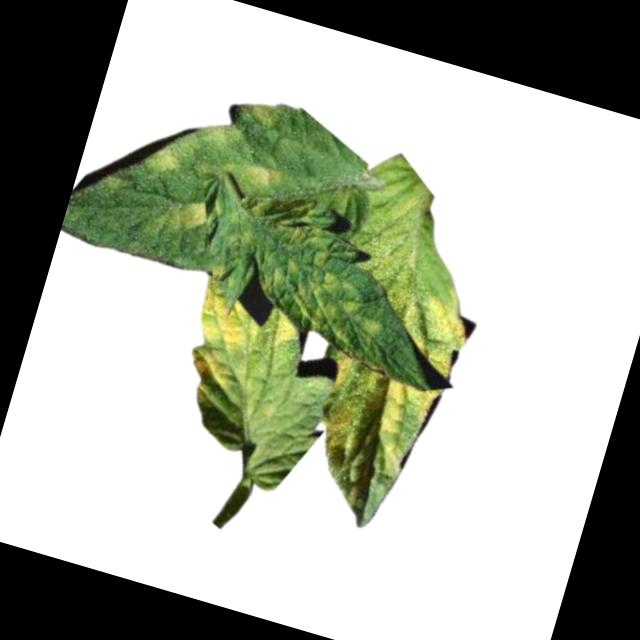Leaf_Mold: (240, 219, 405, 372), (167, 275, 306, 425), (303, 357, 440, 492), (382, 276, 479, 387), (156, 188, 212, 243), (225, 152, 283, 197), (136, 135, 185, 180), (235, 96, 281, 136)
